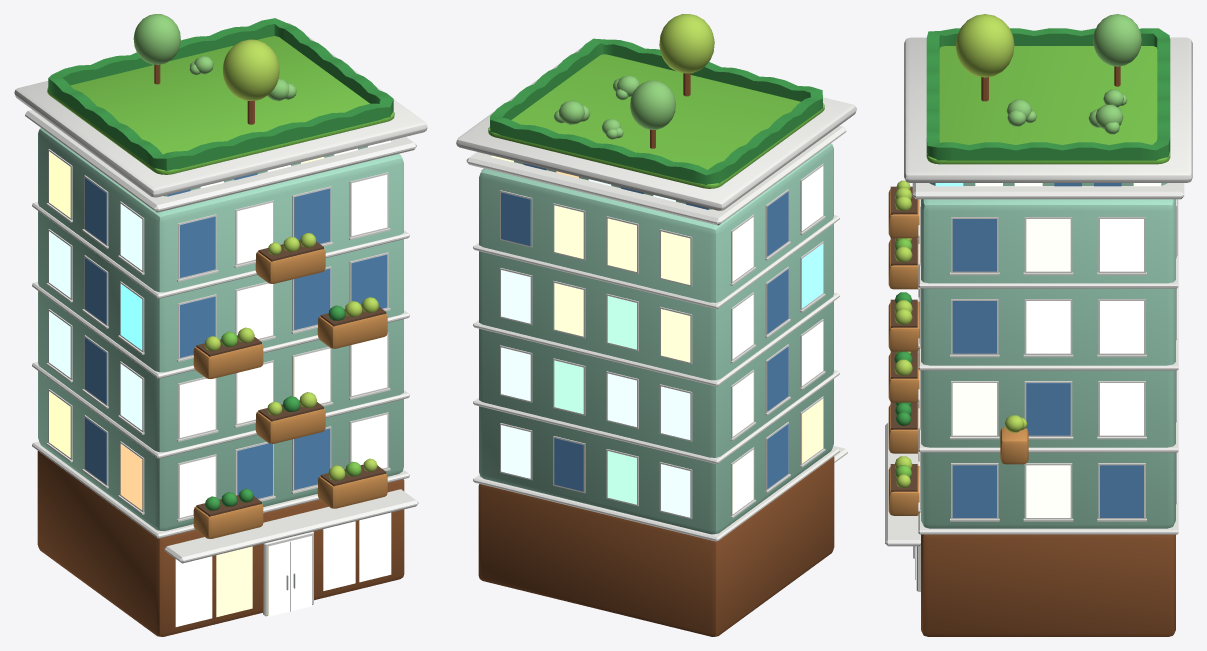
File: predio_menta_varandas_madeira.glb
The picture shows the model from 3 angles, left to right: view 1: azimuth 30°, elevation 25°; view 2: azimuth 150°, elevation 25°; view 3: azimuth 270°, elevation 25°; orthographic projection. The views are drawn at different scales.
Visible parts, largest first — view 1: predio_menta_varandas_madeira; view 2: predio_menta_varandas_madeira; view 3: predio_menta_varandas_madeira.
Part boxes in pixels (x1,y1,x2,y2): predio_menta_varandas_madeira: [14, 14, 427, 636]; predio_menta_varandas_madeira: [456, 14, 856, 636]; predio_menta_varandas_madeira: [885, 14, 1192, 636].
Bounding box in the file's own units: 12.15 × 21.86 × 10.87.
7 materials, 1 textured.
